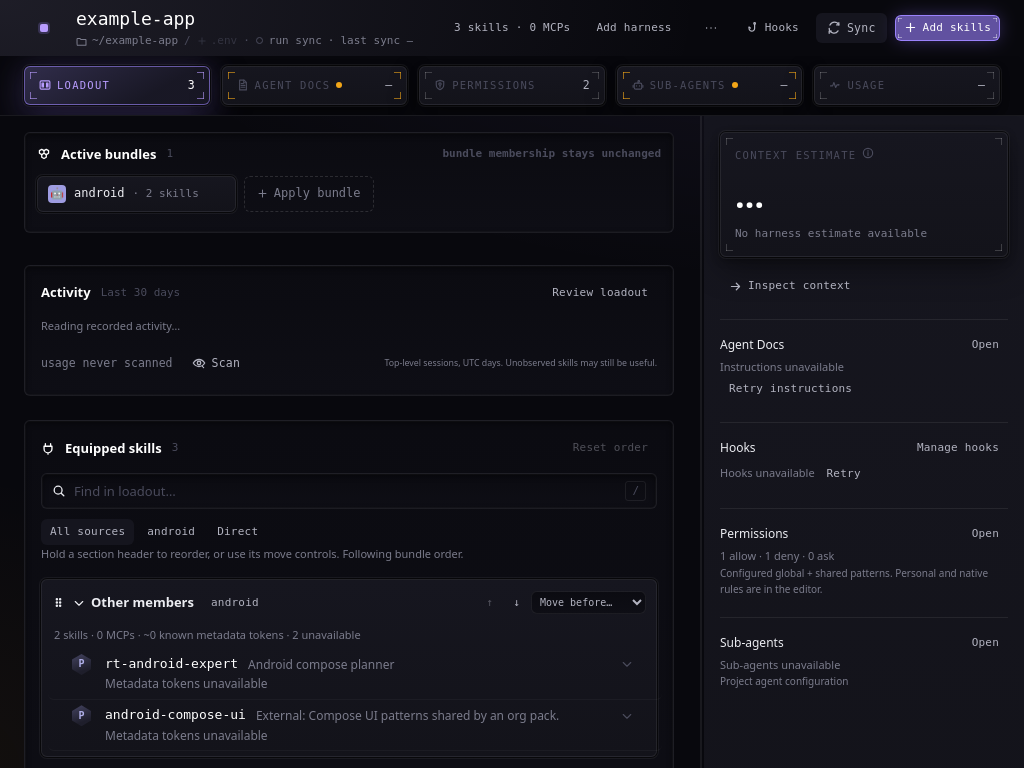
ProjectWorkspace .env crumb › shows a create chip when .env is missing, creates an empty file, and flips to open
This screenshot has width=1024, height=768.
Click the button titled "Create empty .env".
click(217, 41)  # box top-left (197, 33), bottom-right (237, 49)
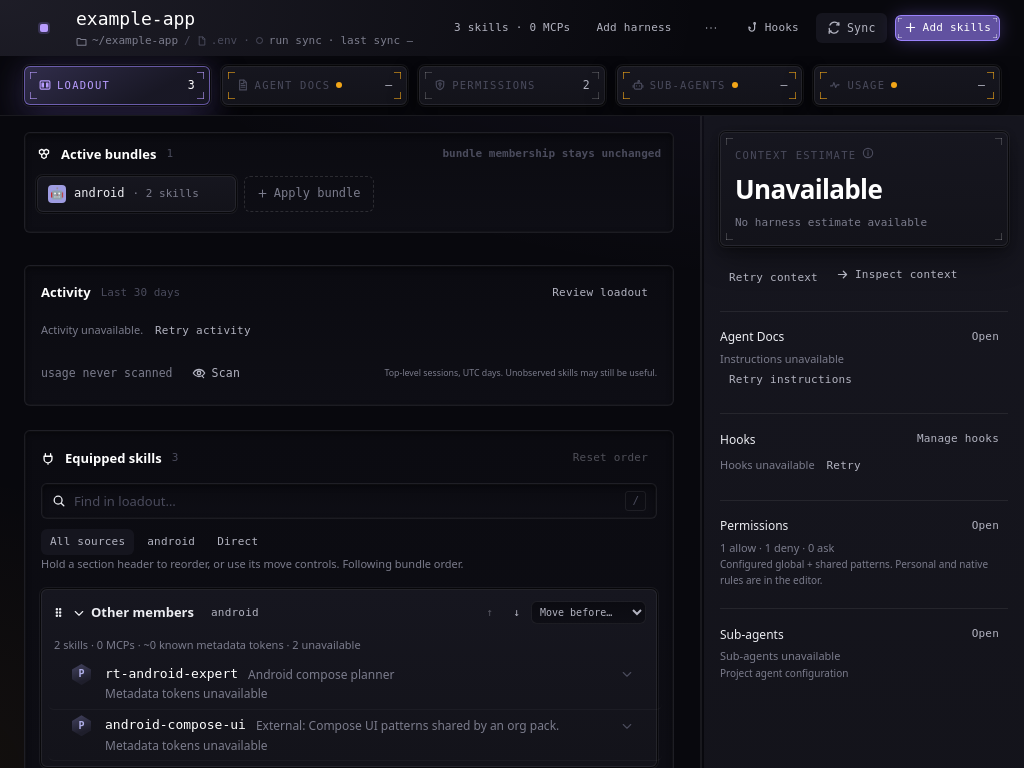
Result: the button titled "Open .env in default app" is shown at top-left (197, 33), bottom-right (237, 49)
